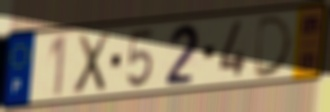1: (46, 33, 68, 101)
2: (161, 20, 204, 91)
4: (217, 17, 248, 81)
5: (125, 27, 156, 90)
D: (251, 13, 295, 80)
X: (71, 29, 113, 98)
